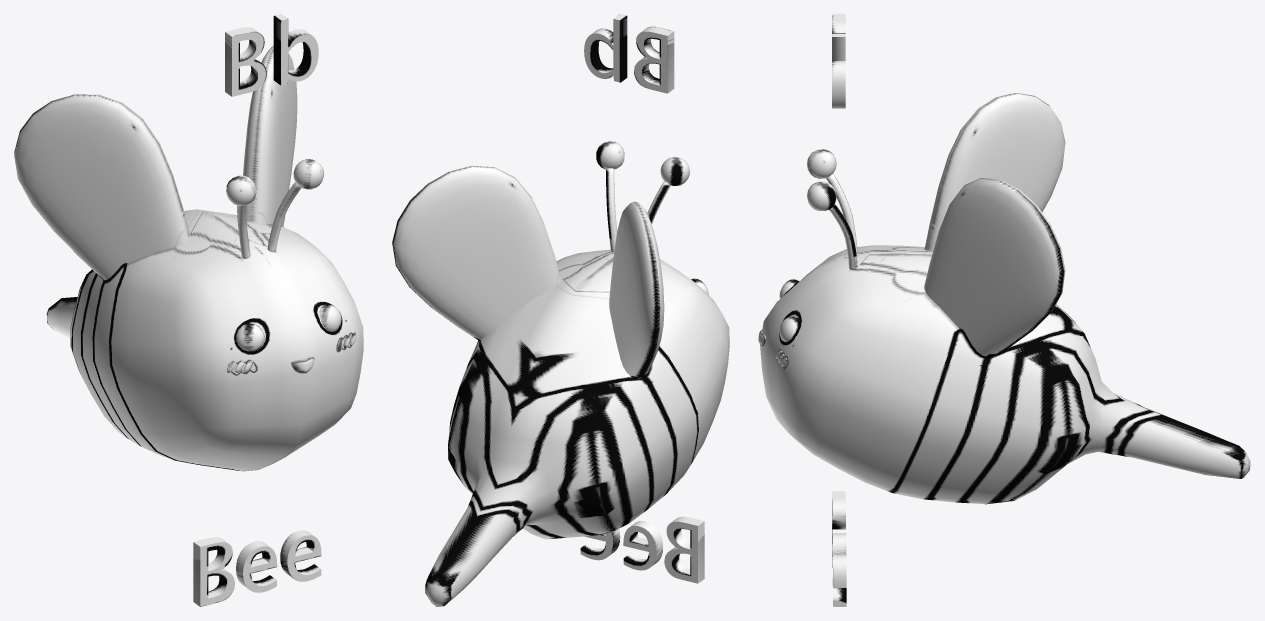
Rendered from bee_bakasa3_ar.fbx.
3 renders of one model, left to right at view 1: azimuth 30°, elevation 25°; view 2: azimuth 150°, elevation 25°; view 3: azimuth 270°, elevation 25°, orthographic. The views are drawn at different scales.
Visible parts, largest first — view 1: polySurface30; view 2: polySurface30; view 3: polySurface30.
Boxes of the visible parts, box(x1,y1,x2,y2) form: polySurface30: box(14, 14, 363, 606); polySurface30: box(392, 14, 729, 606); polySurface30: box(758, 14, 1250, 606).
Bounding box in the file's own units: 19.63 × 38.17 × 30.61.
1 material, 1 textured.
